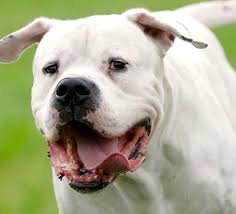dog: (2, 7, 230, 209)
